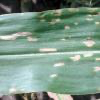Corn Gray leaf spot: (1, 6, 99, 98)
